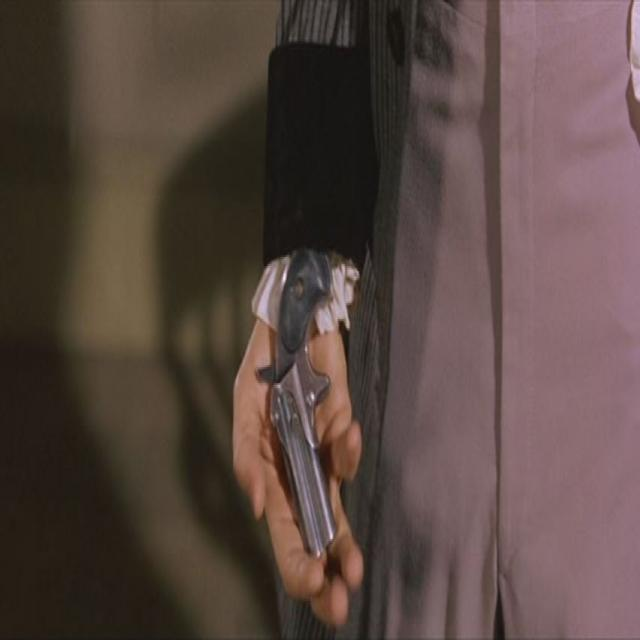gun-knife-thesis - v11 Yolov5 augmented: (235, 225, 361, 638)
